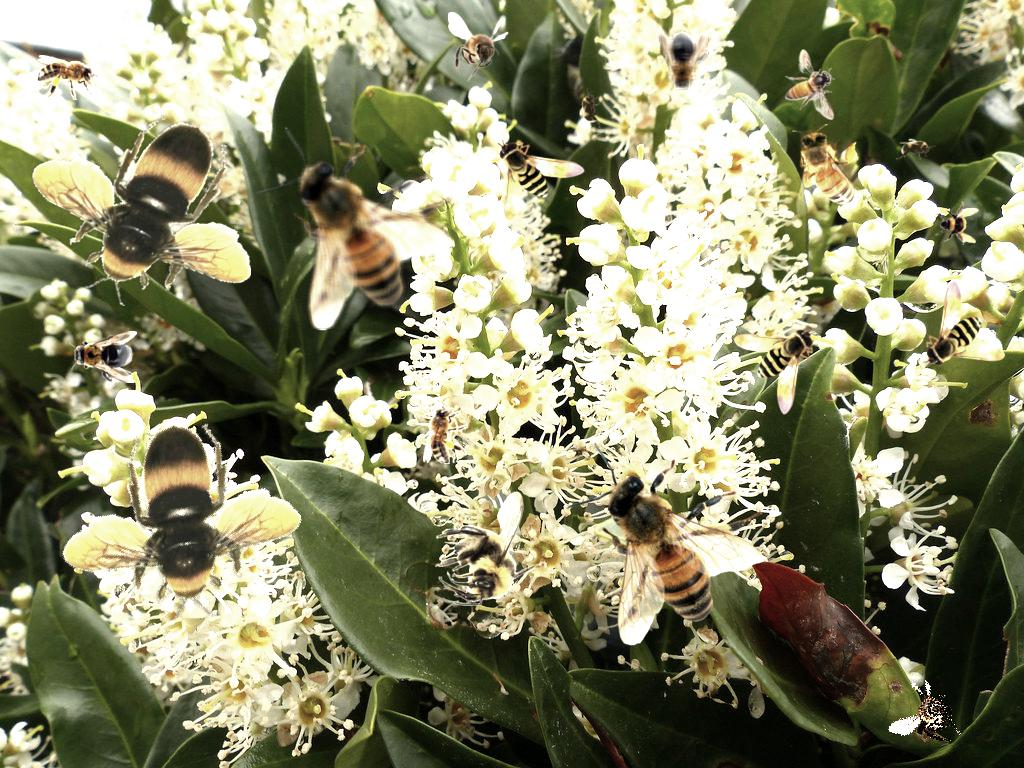Bee: (29, 385, 319, 668), (31, 115, 251, 306), (256, 127, 455, 331), (565, 442, 764, 646), (435, 491, 542, 606), (497, 139, 585, 221), (734, 327, 816, 415), (923, 280, 1005, 368), (887, 673, 974, 753), (792, 124, 860, 217), (448, 12, 509, 82), (785, 49, 835, 120), (658, 27, 710, 95), (69, 331, 137, 383), (37, 55, 103, 100), (423, 398, 468, 464), (935, 201, 979, 245), (896, 138, 936, 160), (579, 88, 601, 128)
